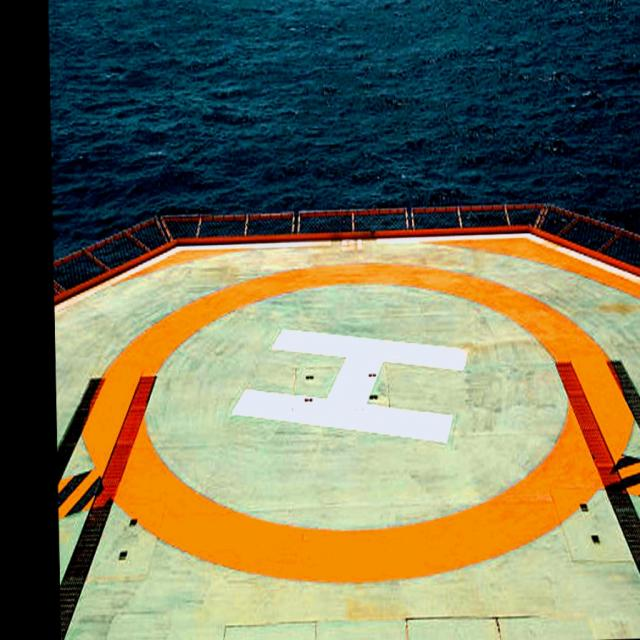helipad: (74, 251, 635, 586)
